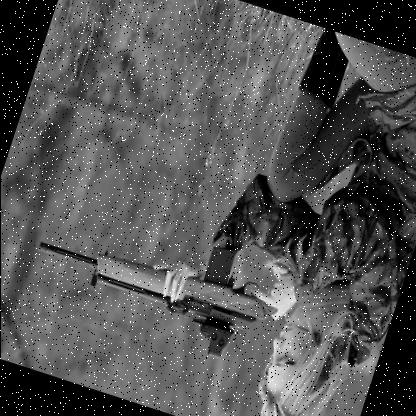rifle: (14, 173, 369, 396)
